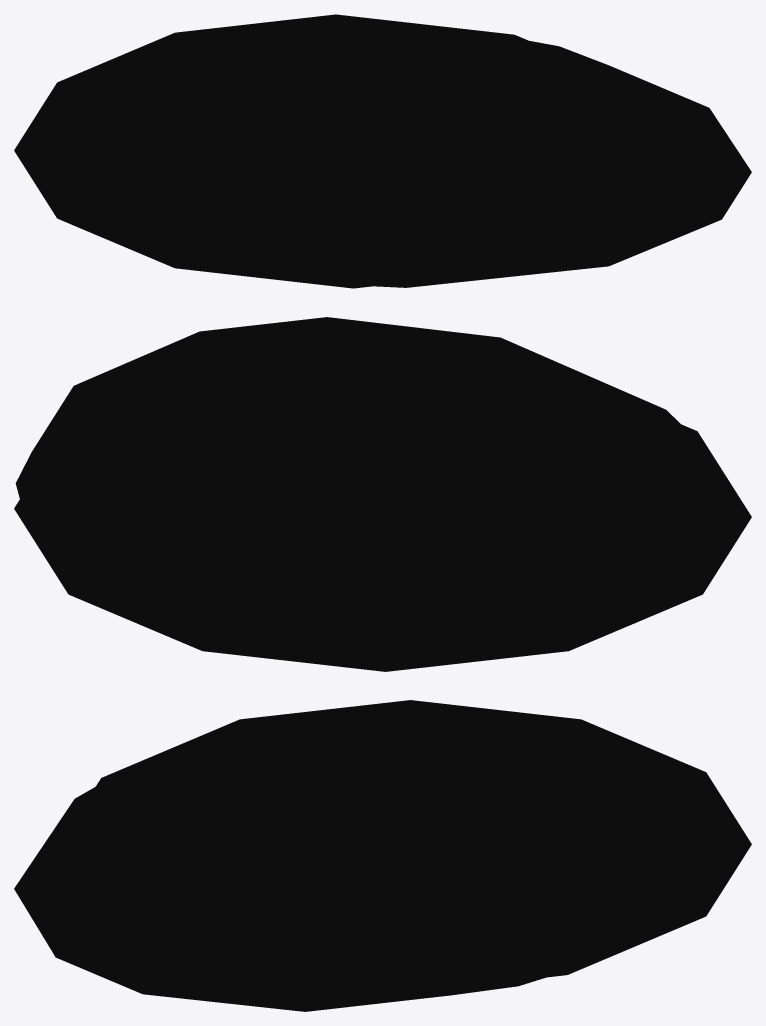
The picture shows the model from 3 angles, top to bottom: view 1: azimuth 30°, elevation 25°; view 2: azimuth 150°, elevation 25°; view 3: azimuth 270°, elevation 25°; orthographic projection. The views are drawn at different scales.
Visible parts, largest first — view 1: Joint_0_Object_0; view 2: Joint_0_Object_0; view 3: Joint_0_Object_0.
Boxes of the visible parts, <box> form: Joint_0_Object_0: <box>14,14,751,288</box>; Joint_0_Object_0: <box>14,317,751,671</box>; Joint_0_Object_0: <box>14,700,751,1011</box>.
Bounding box in the file's own units: 549 × 0 × 549.
1 material, 1 textured.
